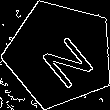N_NW: (27, 22, 92, 86)
